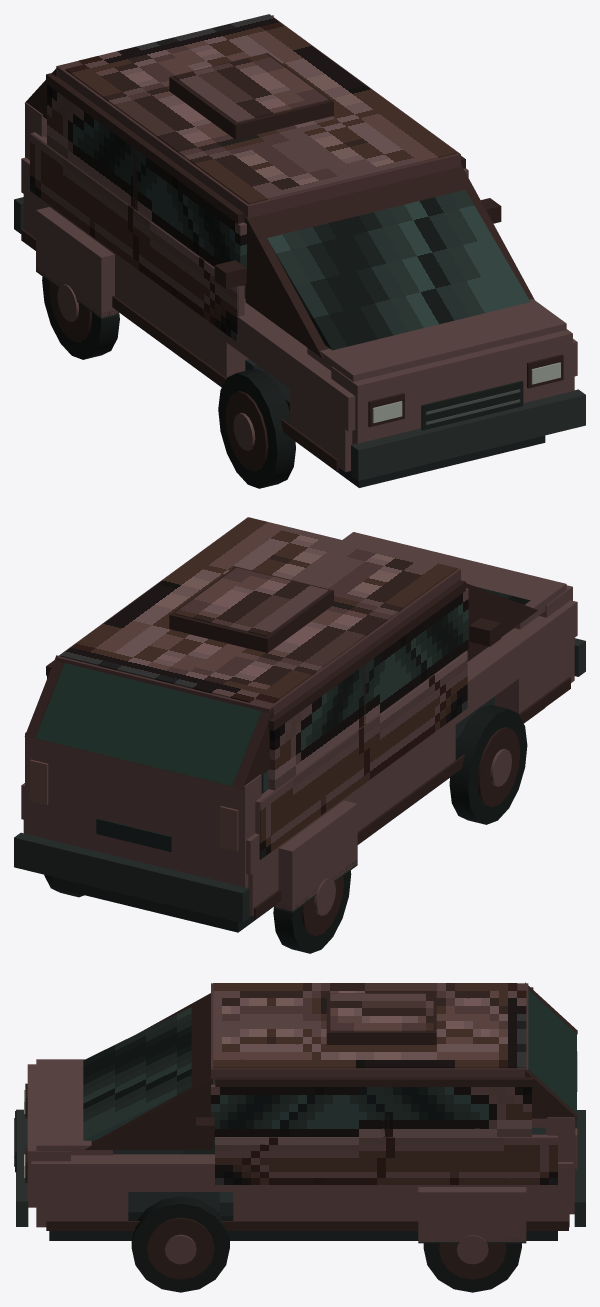
The model's file is CMU3DRMCPropVehicleMonoSupronOrange.glb.
The picture shows the model from 3 angles, top to bottom: view 1: azimuth 30°, elevation 25°; view 2: azimuth 150°, elevation 25°; view 3: azimuth 270°, elevation 25°; orthographic projection. The views are drawn at different scales.
Visible parts, largest first — view 1: source roof panel, continuous sloped windshield, painted side door -1 0, side glazing -1 0, sloping windshield surround, nose lower panel, front bumper, hood top, upper wheel arch rail -1, roof base, roof pod original top, rear wheel cover (+17 smaller); view 2: source roof panel, rear tailgate, raked rear glazing, painted side door -1 0, side glazing -1 0, rear black bumper, upper wheel arch rail -1, roof pod original top, rear wheel cover, tire 1 -1, lower skirt -1 1, hood top (+18 smaller); view 3: source roof panel, painted side door 1 0, side glazing 1 0, continuous sloped windshield, lower skirt 1 1, sloping windshield surround, upper wheel arch rail 1, rear wheel cover, hood top, chassis dark underside, tire 1 1, roof pod original top (+20 smaller).
Part boxes in pixels (<box>): source roof panel: <box>65,14,457,204</box>; continuous sloped windshield: <box>267,190,530,350</box>; painted side door -1 0: <box>30,133,237,341</box>; side glazing -1 0: <box>47,84,246,285</box>; sloping windshield surround: <box>245,164,534,358</box>; nose lower panel: <box>331,329,572,444</box>; front bumper: <box>351,389,585,480</box>; hood top: <box>307,299,566,381</box>; upper wheel arch rail -1: <box>21,157,355,431</box>; roof base: <box>56,14,460,218</box>; roof pod original top: <box>174,54,328,122</box>; rear wheel cover: <box>36,207,119,317</box>; source roof panel: <box>60,517,457,703</box>; rear tailgate: <box>25,732,261,887</box>; raked rear glazing: <box>35,663,261,785</box>; painted side door -1 0: <box>259,651,467,859</box>; side glazing -1 0: <box>268,588,468,790</box>; rear black bumper: <box>14,832,249,922</box>; upper wheel arch rail -1: <box>246,600,577,874</box>; roof pod original top: <box>174,567,328,636</box>; rear wheel cover: <box>274,800,357,911</box>; tire 1 -1: <box>449,704,527,824</box>; lower skirt -1 1: <box>343,718,455,831</box>; hood top: <box>343,532,566,629</box>; source roof panel: <box>213,983,526,1068</box>; painted side door 1 0: <box>215,1137,557,1184</box>; side glazing 1 0: <box>211,1084,531,1136</box>; continuous sloped windshield: <box>83,1007,191,1140</box>; lower skirt 1 1: <box>233,1185,419,1220</box>; sloping windshield surround: <box>85,993,212,1149</box>; upper wheel arch rail 1: <box>31,1154,573,1191</box>; rear wheel cover: <box>418,1187,526,1241</box>; hood top: <box>36,1059,112,1155</box>; chassis dark underside: <box>49,1150,557,1240</box>; tire 1 1: <box>131,1196,229,1292</box>; roof pod original top: <box>330,993,433,1031</box>.
Bounding box in the file's own units: 0.9117 × 0.8778 × 1.98.
23 materials, 5 textured.
